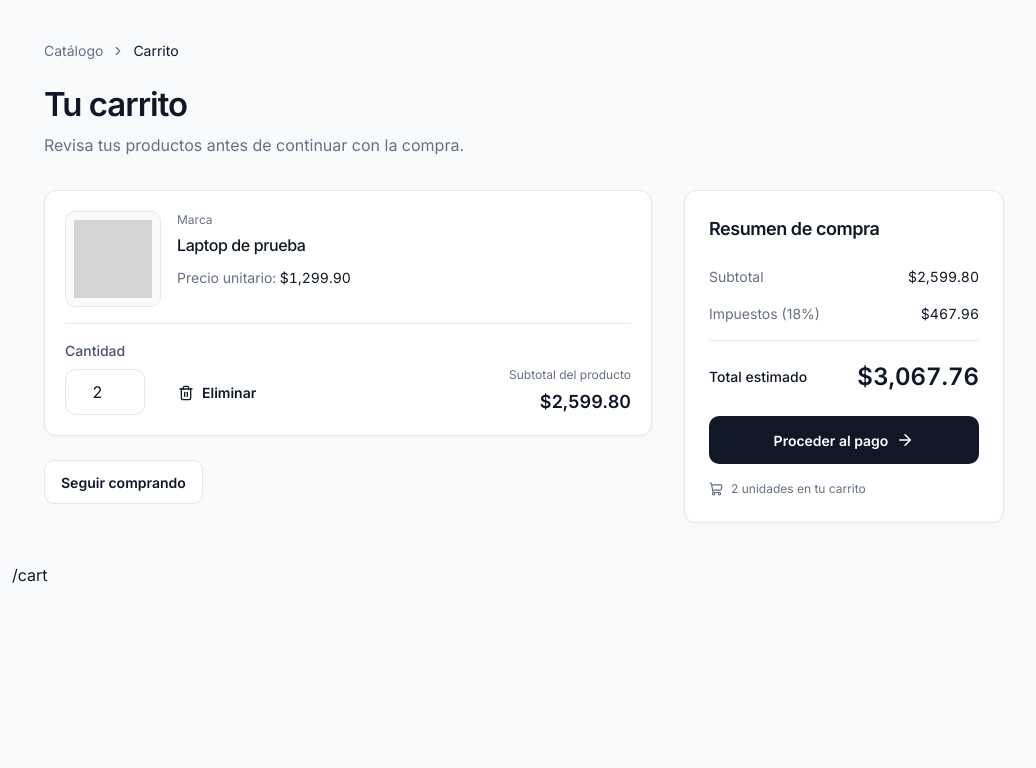
Cart redesign › keeps subtotal, the existing 18% tax, checkout and successful quantity/removal requests
Expected: the heading "Laptop de prueba" is shown, [177,235,306,255]
Expected: the text "$2,599.80" is shown 2 times, [540,391,631,412]; [908,266,979,287]
Replace the text in the number field labelled "Cantidad" with "3": (105, 392) [65,369,145,415]
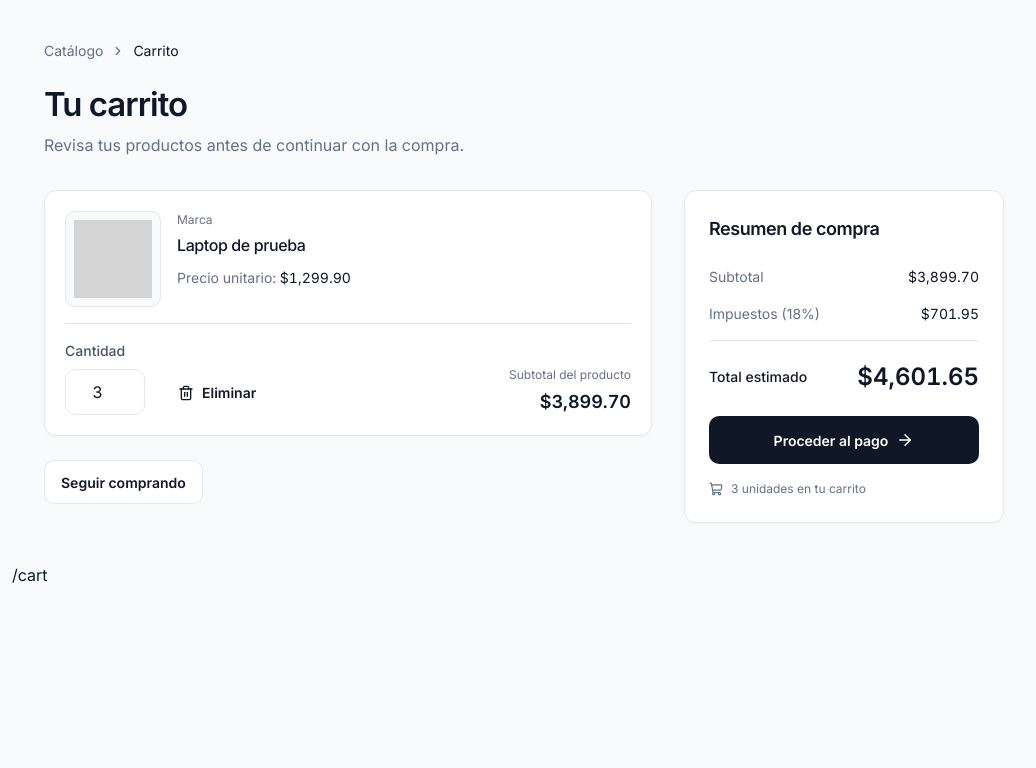
Click the button "Eliminar": (217, 393) [161,371,273,415]
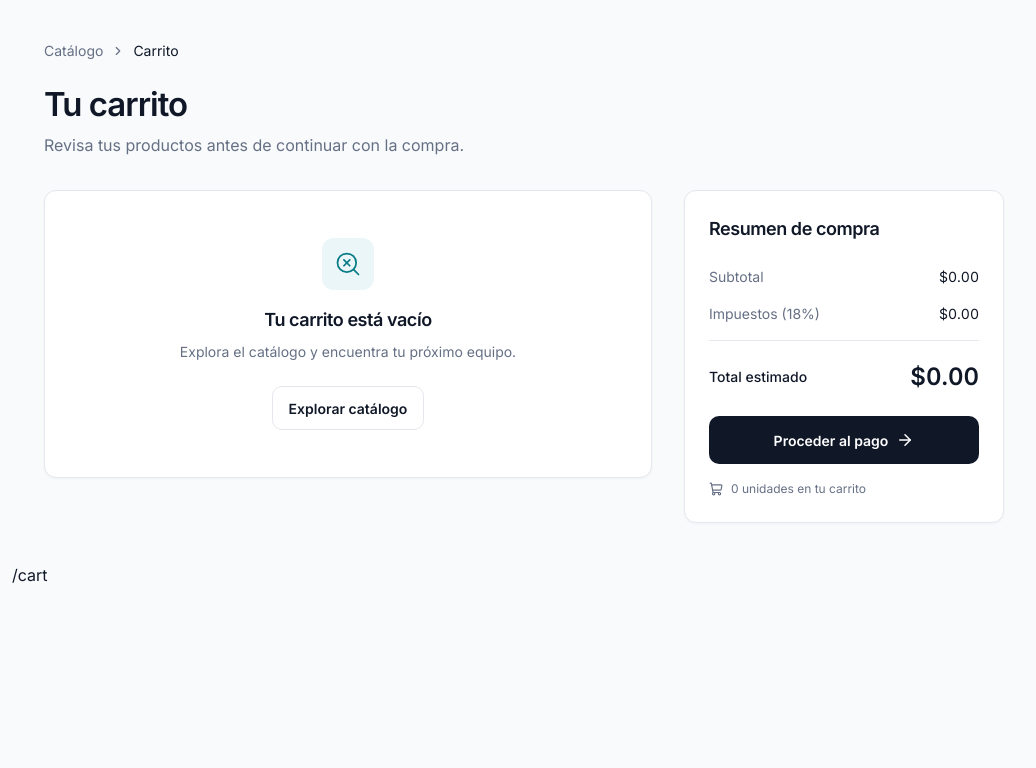
Now the heading "Tu carrito está vacío" is shown, box [264,306,432,333]
